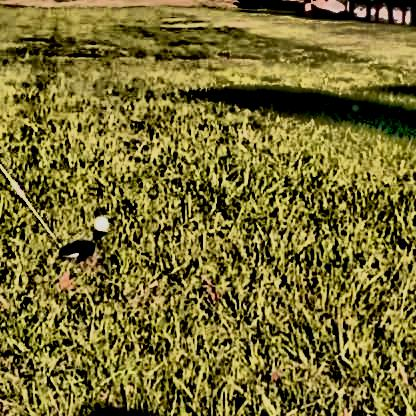golfball: (90, 213, 107, 230)
